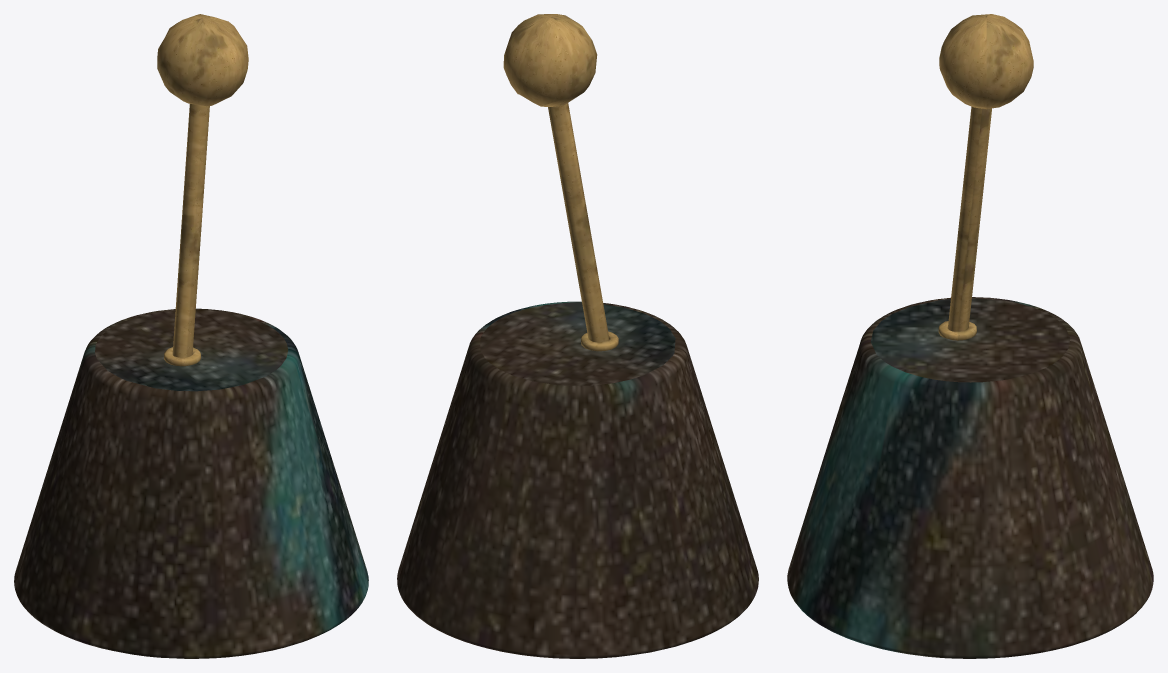
File: Medenka_06_Spendlik_cerna.glb
3 views of the same model, side by side, from view 1: azimuth 30°, elevation 25°; view 2: azimuth 150°, elevation 25°; view 3: azimuth 270°, elevation 25° (orthographic). The views are drawn at different scales.
Visible parts, largest first — view 1: Telo, Hlavicka, Jehla; view 2: Telo, Hlavicka, Jehla; view 3: Telo, Hlavicka, Jehla.
Part boxes in pixels (x1,y1,x2,y2): Telo: (14, 308, 368, 658); Hlavicka: (157, 14, 248, 106); Jehla: (172, 104, 209, 357); Telo: (397, 301, 758, 658); Hlavicka: (503, 14, 597, 106); Jehla: (548, 103, 609, 342); Telo: (787, 297, 1153, 658); Hlavicka: (939, 14, 1033, 109); Jehla: (947, 106, 991, 331).
Bounding box in the file's own units: 0.0397 × 0.0687 × 0.0397.
3 materials, 3 textured.
